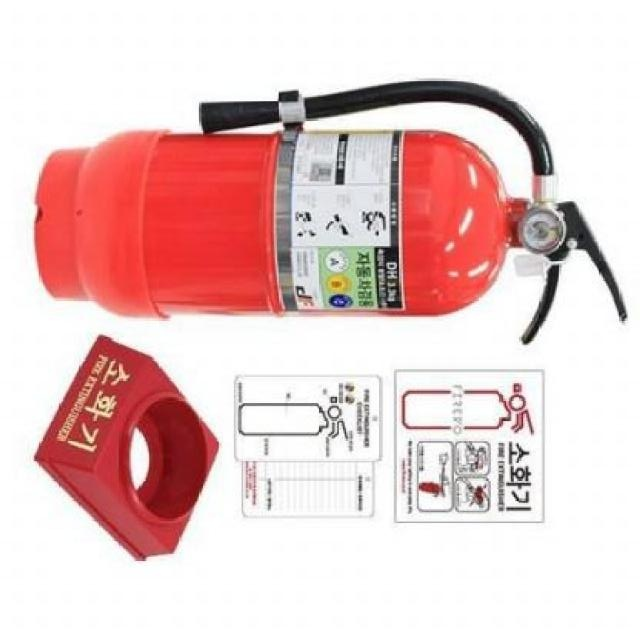fire extinguisher: (33, 79, 629, 345)
